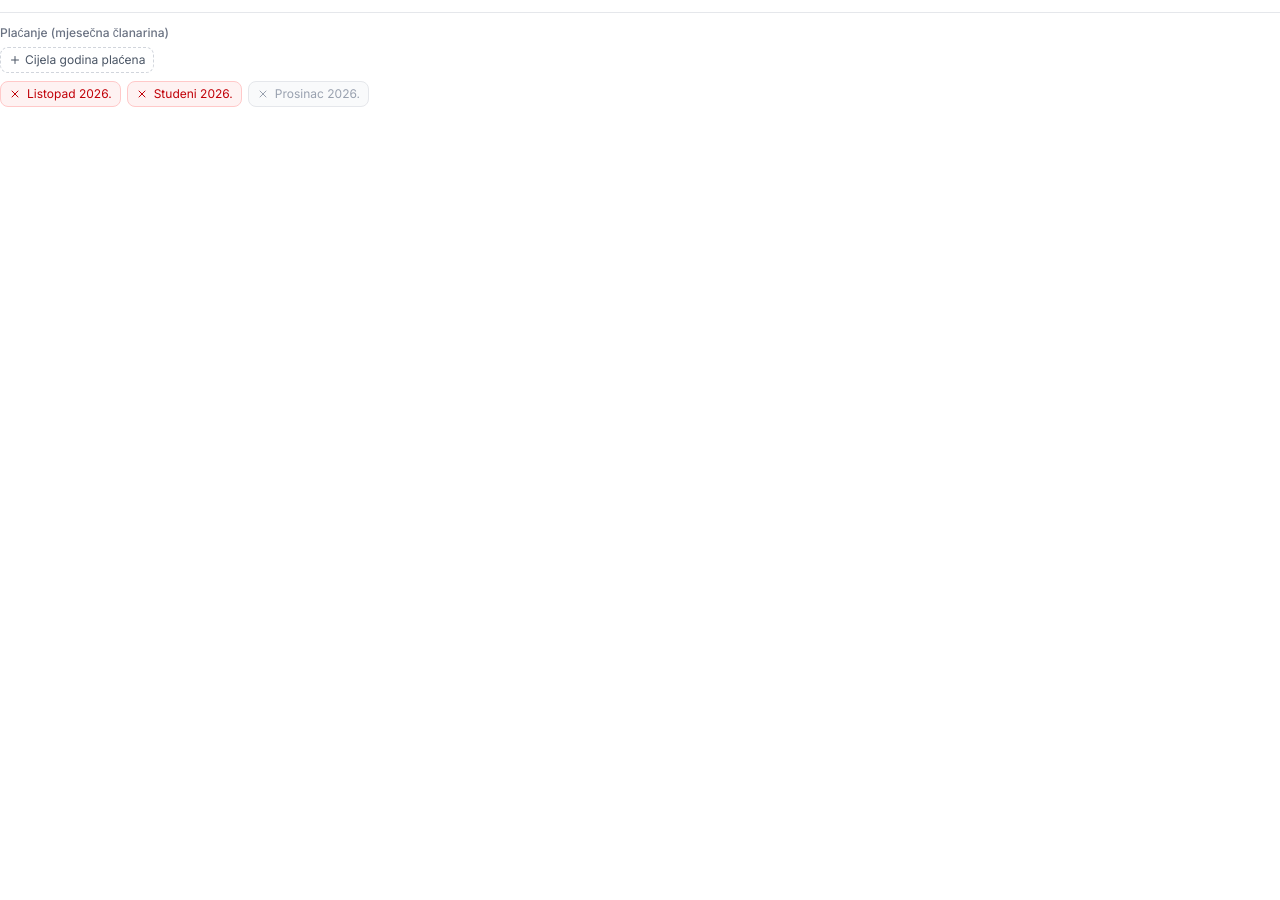
Test case: EnrollmentPaymentPanel — nothing is written on the first click › asks before marking a month paid
The width and height of the screenshot is (1280, 900).
Click the button "Listopad 2026.": (60,94) [0,81,121,107]
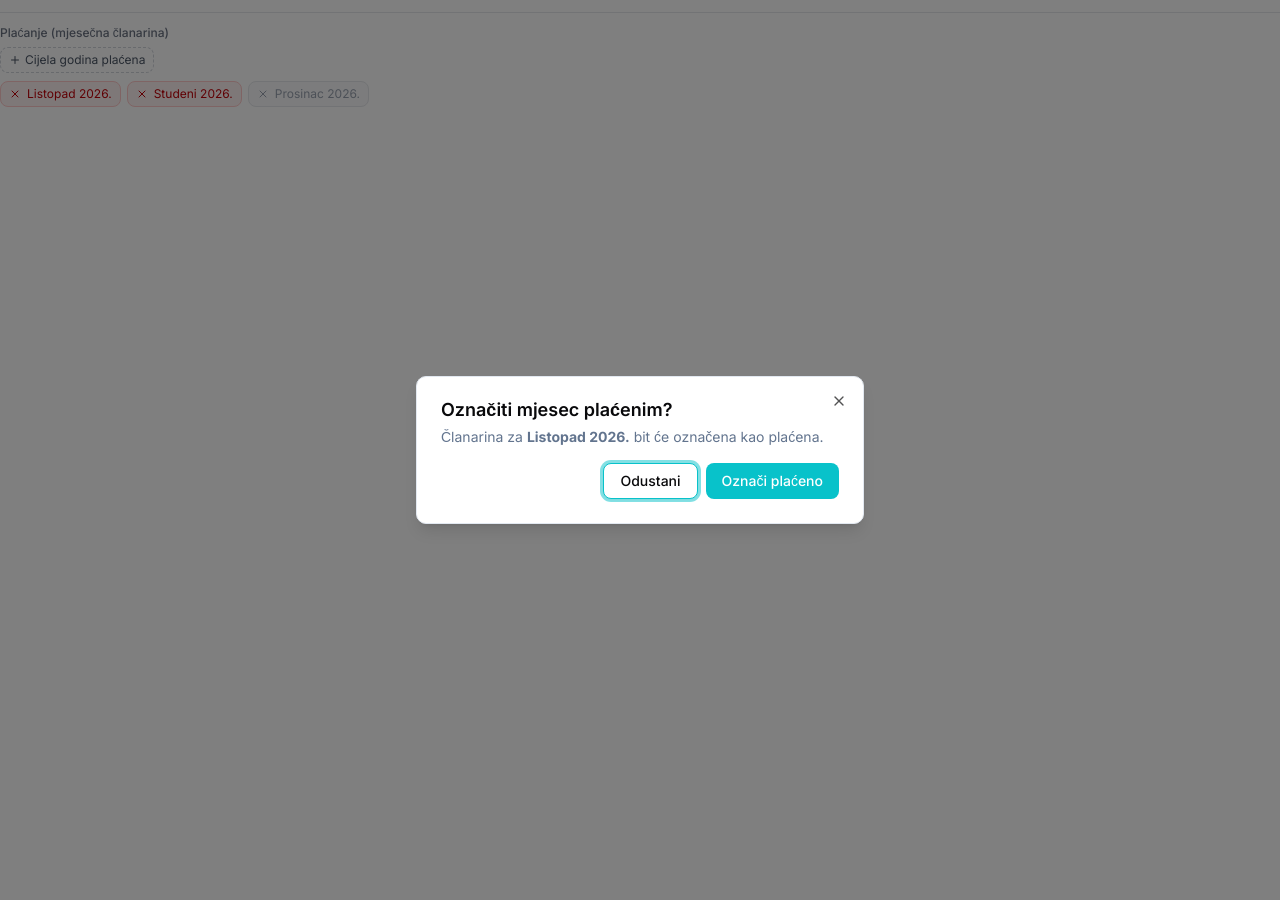
Now the heading "Označiti mjesec plaćenim?" is shown, box [441,399,672,420]
